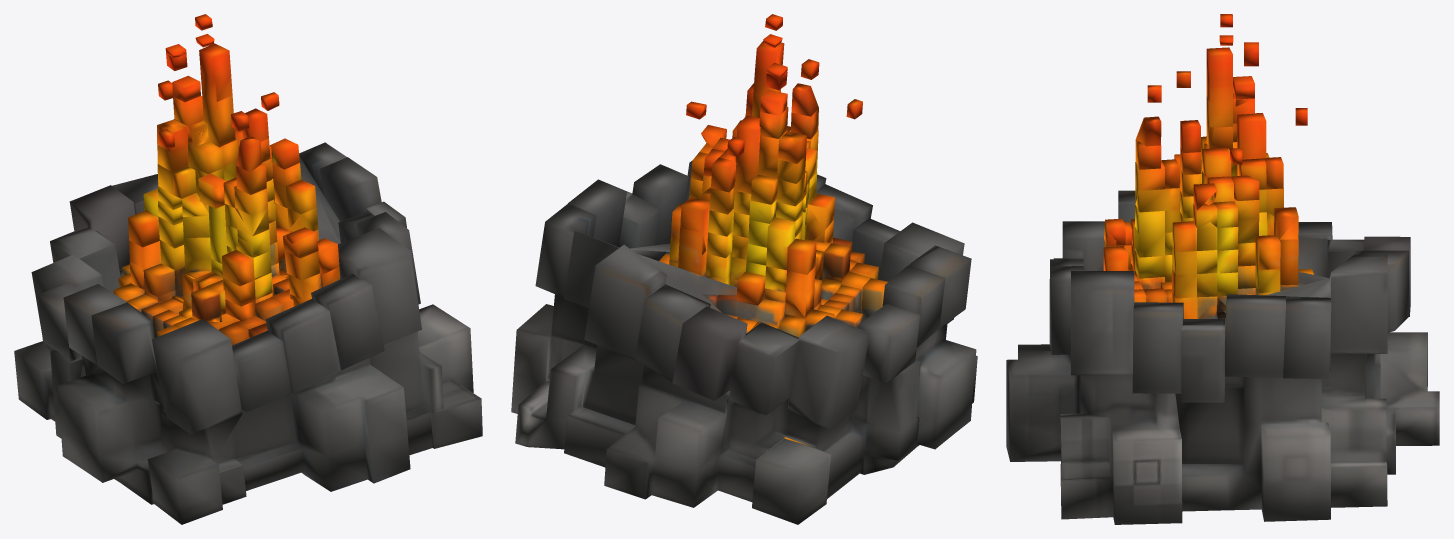
File: braseiro.glb
The picture shows the model from 3 angles, left to right: view 1: azimuth 30°, elevation 25°; view 2: azimuth 150°, elevation 25°; view 3: azimuth 270°, elevation 25°; orthographic projection.
Parts seen in each view (by area): view 1: tripo_5a2c57f9_4a31_4a7d_81d1_1cb5ea72d84f; view 2: tripo_5a2c57f9_4a31_4a7d_81d1_1cb5ea72d84f; view 3: tripo_5a2c57f9_4a31_4a7d_81d1_1cb5ea72d84f.
Boxes of the visible parts, x1=… form: tripo_5a2c57f9_4a31_4a7d_81d1_1cb5ea72d84f: x1=14, y1=14, x2=482, y2=524; tripo_5a2c57f9_4a31_4a7d_81d1_1cb5ea72d84f: x1=511, y1=14, x2=977, y2=524; tripo_5a2c57f9_4a31_4a7d_81d1_1cb5ea72d84f: x1=1006, y1=14, x2=1439, y2=524.
Size of the model in its own units: 0.9272 by 0.9995 by 0.938.
Materials: 1 (1 with a texture image).
